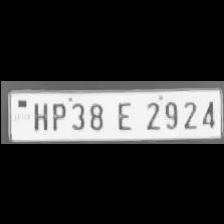2: (138, 97, 162, 130), (178, 97, 198, 129)
3: (66, 98, 86, 130)
4: (196, 96, 216, 128)
8: (84, 99, 106, 130)
9: (160, 97, 178, 129)
E: (110, 97, 136, 130)
H: (28, 99, 48, 130)
P: (47, 98, 67, 130)
